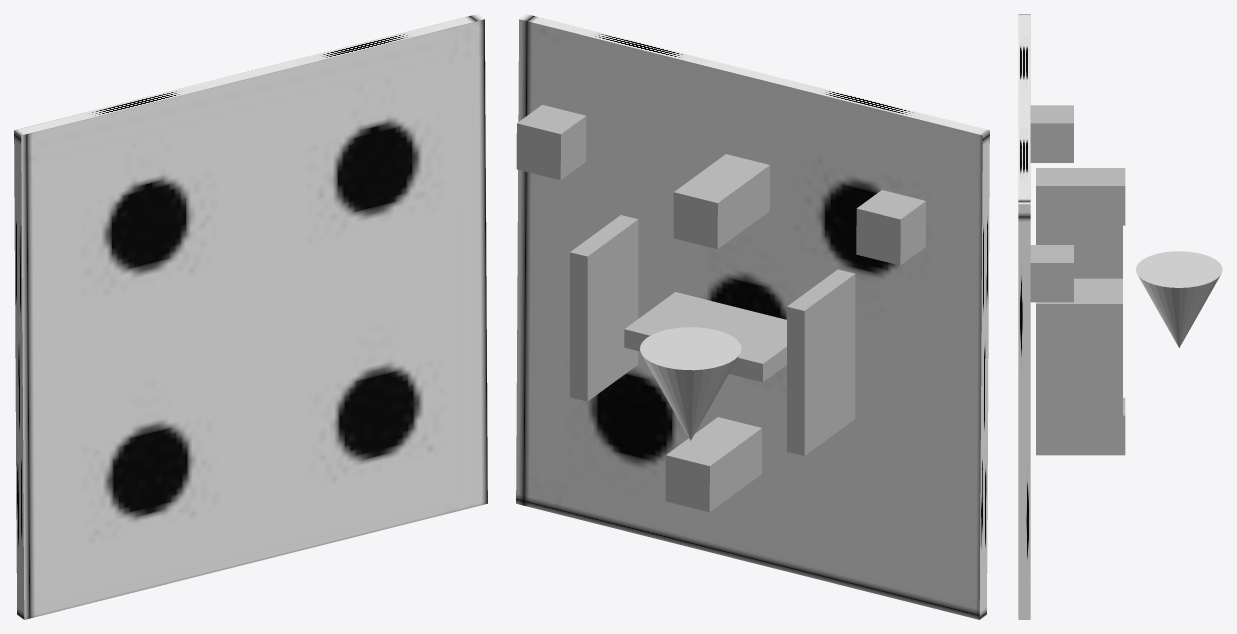
File: bsp.dae
The picture shows the model from 3 angles, left to right: view 1: azimuth 30°, elevation 25°; view 2: azimuth 150°, elevation 25°; view 3: azimuth 270°, elevation 25°; orthographic projection. The views are drawn at different scales.
Parts seen in each view (by area): view 1: floor; view 2: floor, wall000, wall002, cubeB, cubeD, Cone, wall001, cubeC, cubeA; view 3: wall002, floor, cubeB, Cone, wall000, cubeD, cubeA, cubeC, wall001.
Boxes of the visible parts, box(x1,y1,x2,y2) form: floor: box(14, 14, 487, 619); floor: box(516, 14, 989, 619); wall000: box(787, 269, 855, 455); wall002: box(570, 215, 638, 401); cubeB: box(673, 154, 769, 249); cubeD: box(665, 417, 761, 512); Cone: box(640, 327, 741, 440); wall001: box(624, 292, 786, 382); cubeC: box(516, 104, 586, 180); cubeA: box(856, 190, 925, 265); wall002: box(1036, 296, 1122, 427); floor: box(1018, 14, 1030, 619); cubeB: box(1036, 168, 1125, 225); Cone: box(1135, 251, 1222, 347); wall000: box(1036, 225, 1122, 278); cubeD: box(1036, 397, 1125, 455); cubeA: box(1030, 105, 1073, 162); cubeC: box(1030, 245, 1073, 302); wall001: box(1074, 278, 1122, 296).
Bounding box in the file's own units: 10.58 × 4.7 × 10.58.
